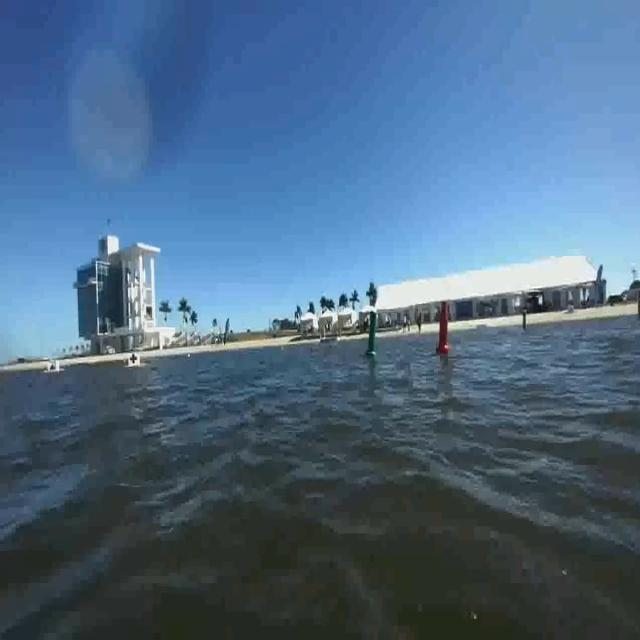green-column-buoy: (364, 311, 378, 359)
red-column-buoy: (436, 303, 452, 357)
